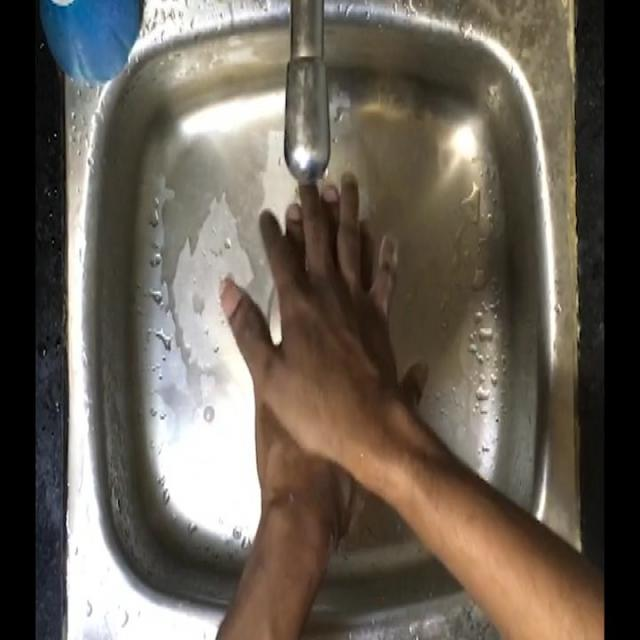step_2: (220, 150, 432, 507)
